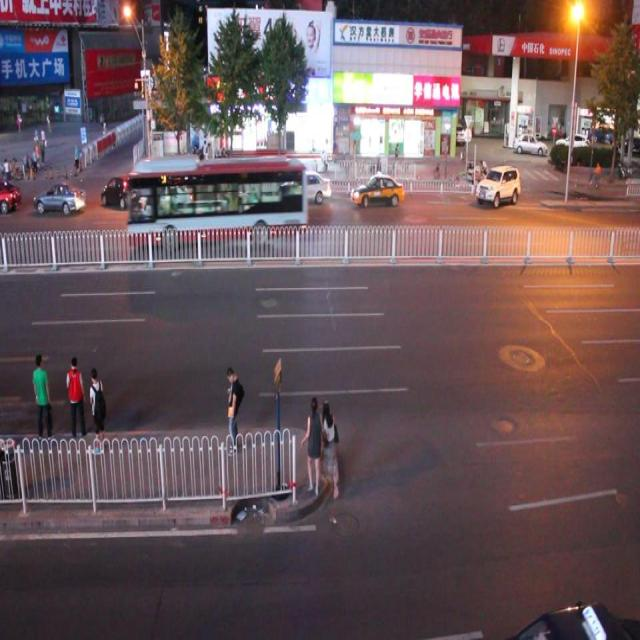car: (33, 180, 86, 215), (350, 173, 403, 207), (139, 184, 188, 220), (473, 165, 518, 204), (186, 166, 230, 203), (284, 170, 330, 202), (102, 173, 137, 209), (1, 176, 19, 213)
van: (128, 157, 308, 244)
